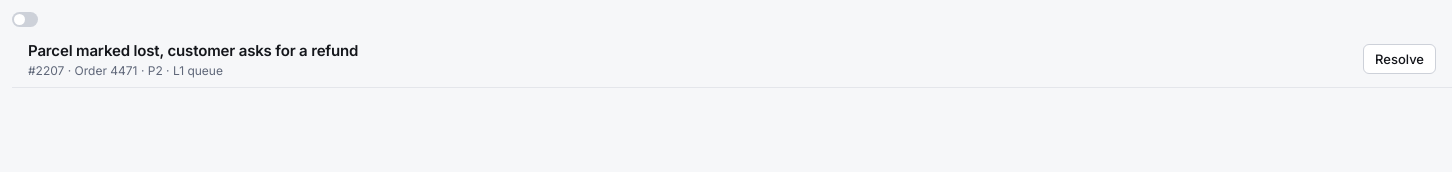
resolving › asks to confirm first, and changes nothing on the first click
What coordinates should you click on to do the following:
click the button "Resolve"
I would click on:
 (1400, 59)
Its box is 1363,44 -> 1436,74.
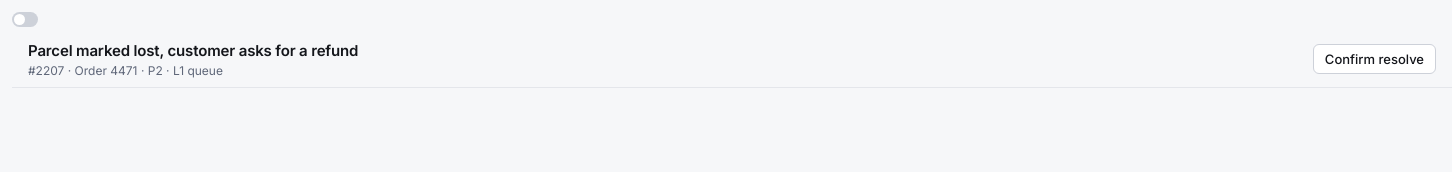
Check: the button "Confirm resolve" is shown, box 1313,44 -> 1436,74
